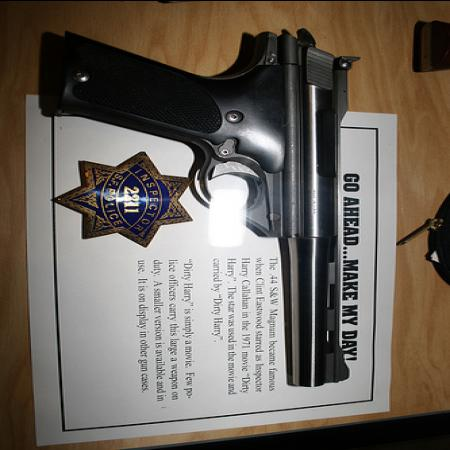Pistol: (42, 25, 363, 387)
